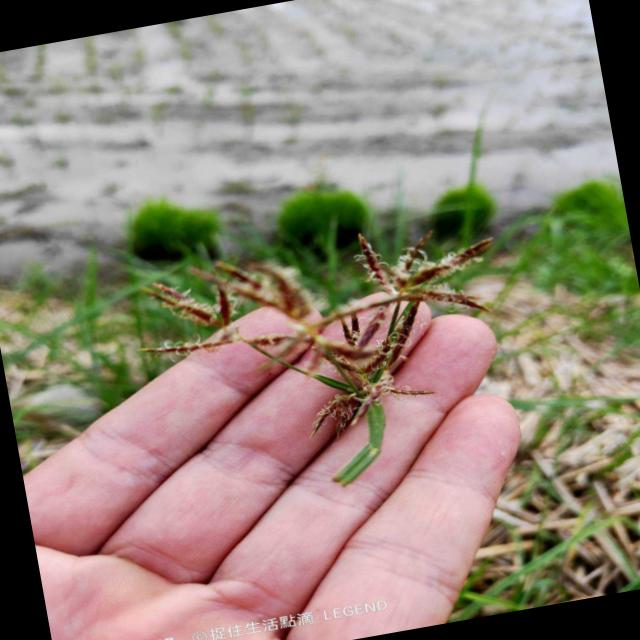cyperus: (128, 198, 530, 493)
